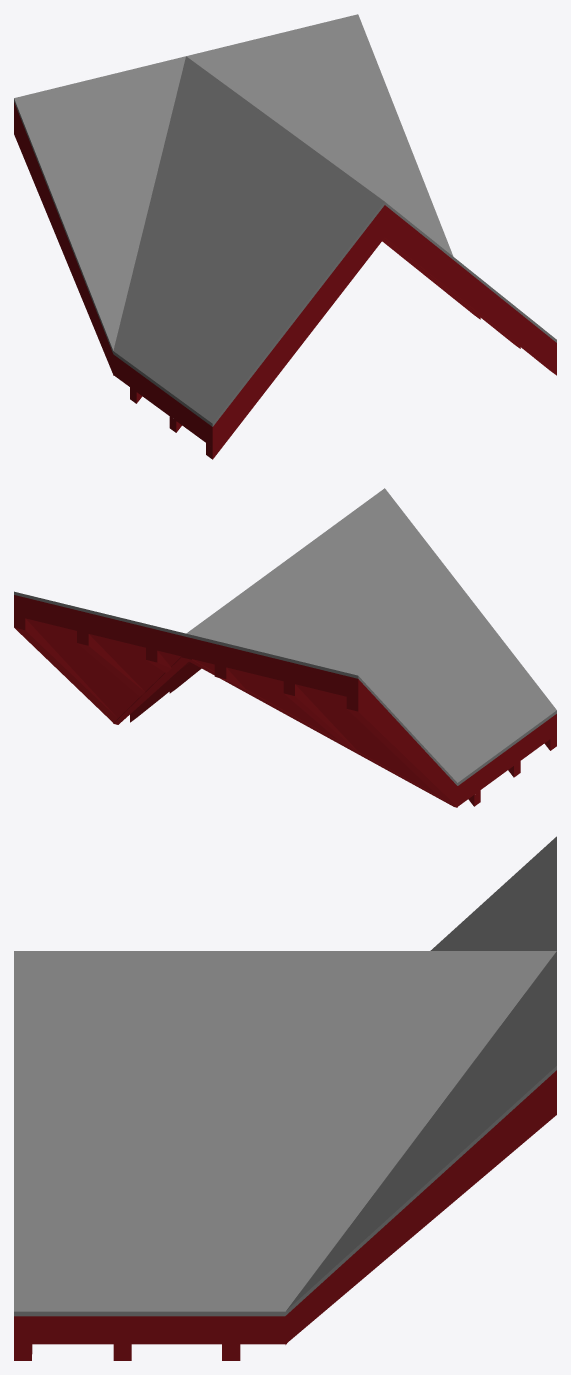
The model's file is SM_MH_01_Slate_Roof_Skylight_01.fbx.
The picture shows the model from 3 angles, top to bottom: view 1: azimuth 30°, elevation 25°; view 2: azimuth 150°, elevation 25°; view 3: azimuth 270°, elevation 25°; orthographic projection. The views are drawn at different scales.
Parts seen in each view (by area): view 1: SM_MH_01_Slate_Roof_Skylight_01_LOD0; view 2: SM_MH_01_Slate_Roof_Skylight_01_LOD0; view 3: SM_MH_01_Slate_Roof_Skylight_01_LOD0.
Boxes of the visible parts, <box> form: SM_MH_01_Slate_Roof_Skylight_01_LOD0: <box>14,14,556,459</box>; SM_MH_01_Slate_Roof_Skylight_01_LOD0: <box>14,488,556,807</box>; SM_MH_01_Slate_Roof_Skylight_01_LOD0: <box>14,836,556,1360</box>.
Size of what is drawn, in the model's own units: 300 by 180 by 300.
